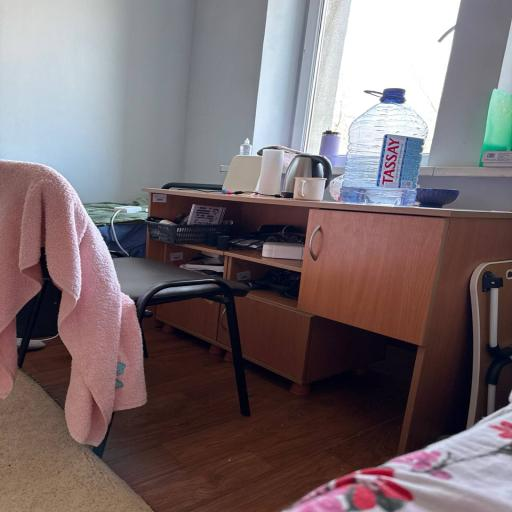bus: (0, 151, 267, 466)
person: (233, 389, 512, 512)
stroller: (144, 189, 511, 451)
